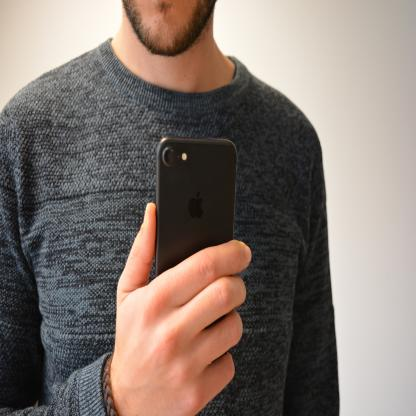smartphone: (153, 134, 238, 280)
